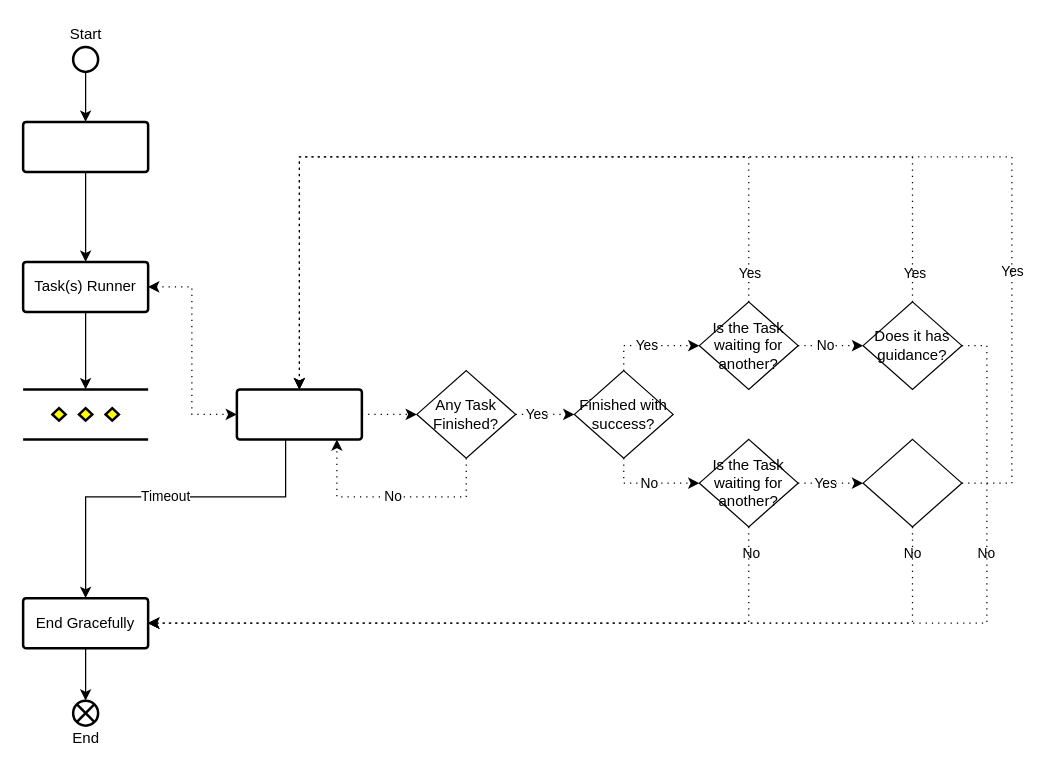
Image size: 1046x771. Some labels were removed from this diagram. The centre of each missing label's shape, as x and y in pixels:
"Are other Tasks Running?" belongs at [912,482].
"Monitor Task(s)" belongs at [298,414].
"Parse JSON Job" belongs at [85,146].
"Run Tasks" belongs at [85,414].
